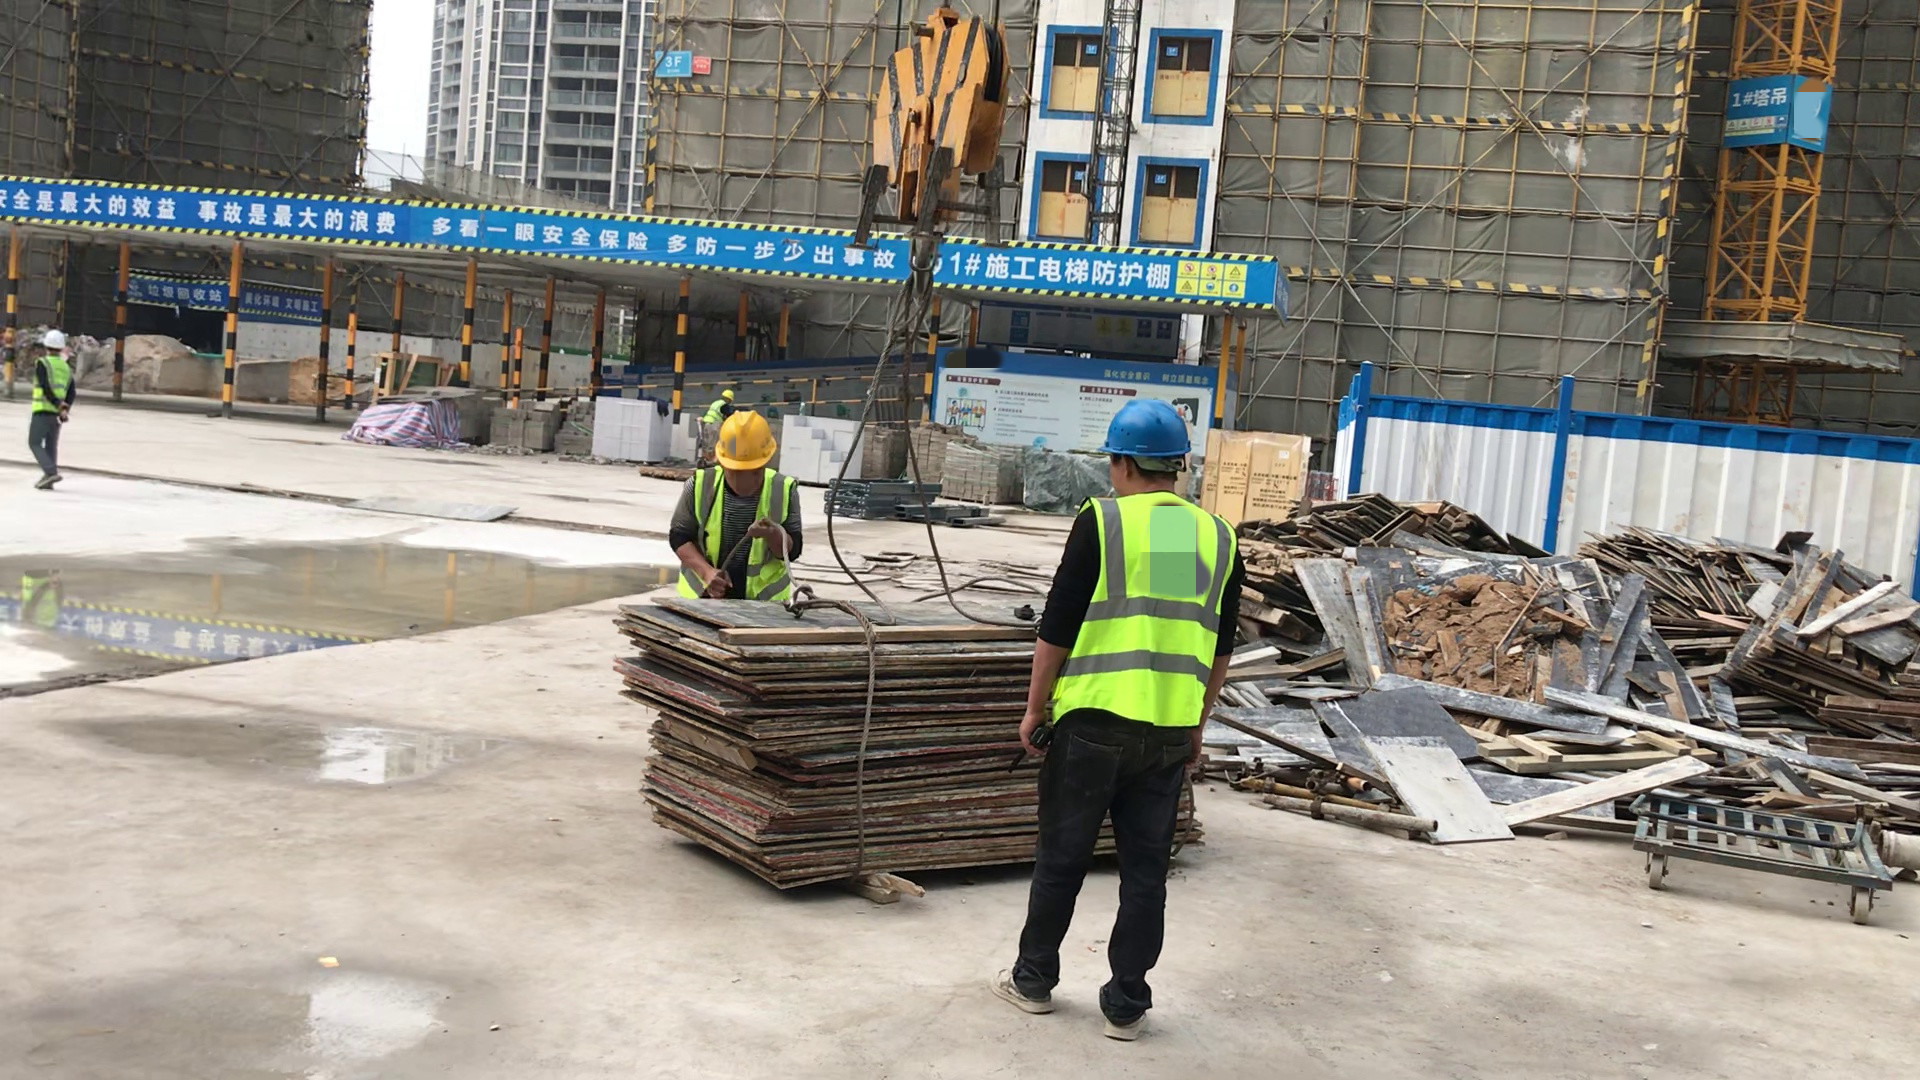board: (613, 586, 1221, 898)
brick: (589, 393, 695, 461), (781, 413, 860, 488)
helmet: (1098, 397, 1191, 458), (718, 416, 775, 468), (42, 332, 64, 352), (721, 386, 734, 400)
hook: (876, 25, 1007, 309)
person: (995, 397, 1244, 1048), (670, 413, 807, 604), (19, 331, 77, 491), (706, 383, 734, 419)
slogan: (431, 209, 898, 275), (6, 186, 402, 236), (1173, 259, 1250, 297), (1725, 115, 1787, 137)
vest: (1054, 488, 1233, 727), (690, 467, 793, 607), (33, 355, 70, 415), (705, 400, 725, 420)
